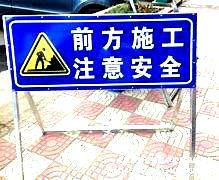sign: (5, 16, 196, 88)
